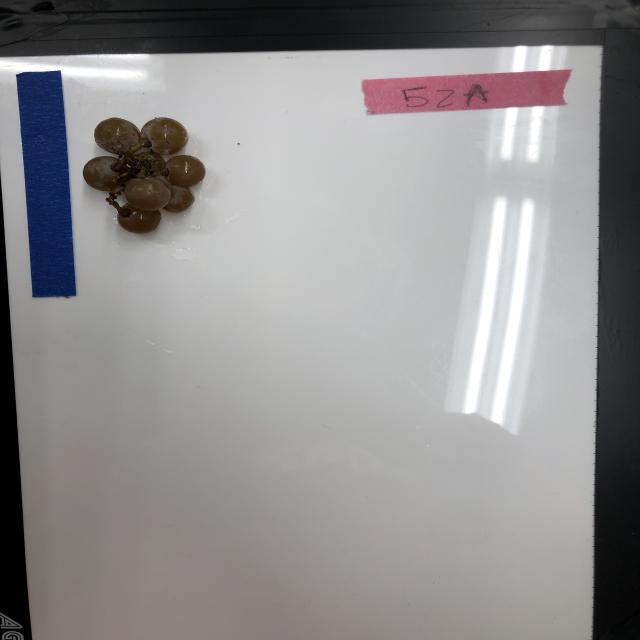grape_cluster: (86, 115, 208, 232)
index: (362, 67, 574, 114)
measure_label: (14, 69, 81, 298)
